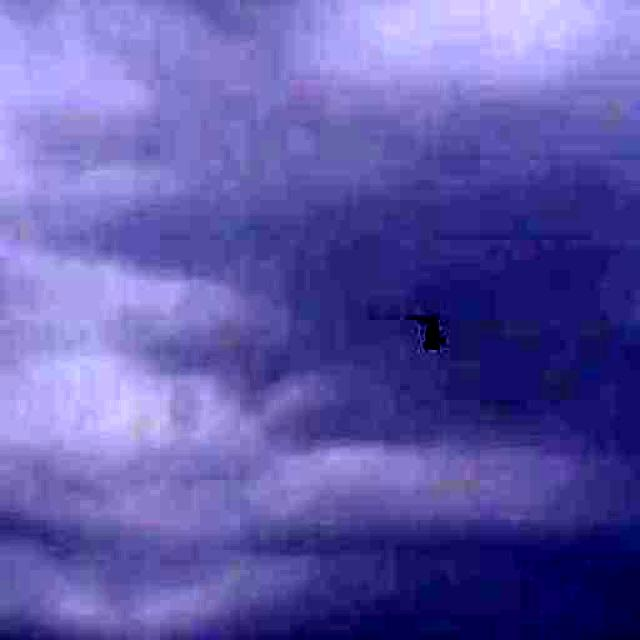drone: (400, 291, 474, 371)
